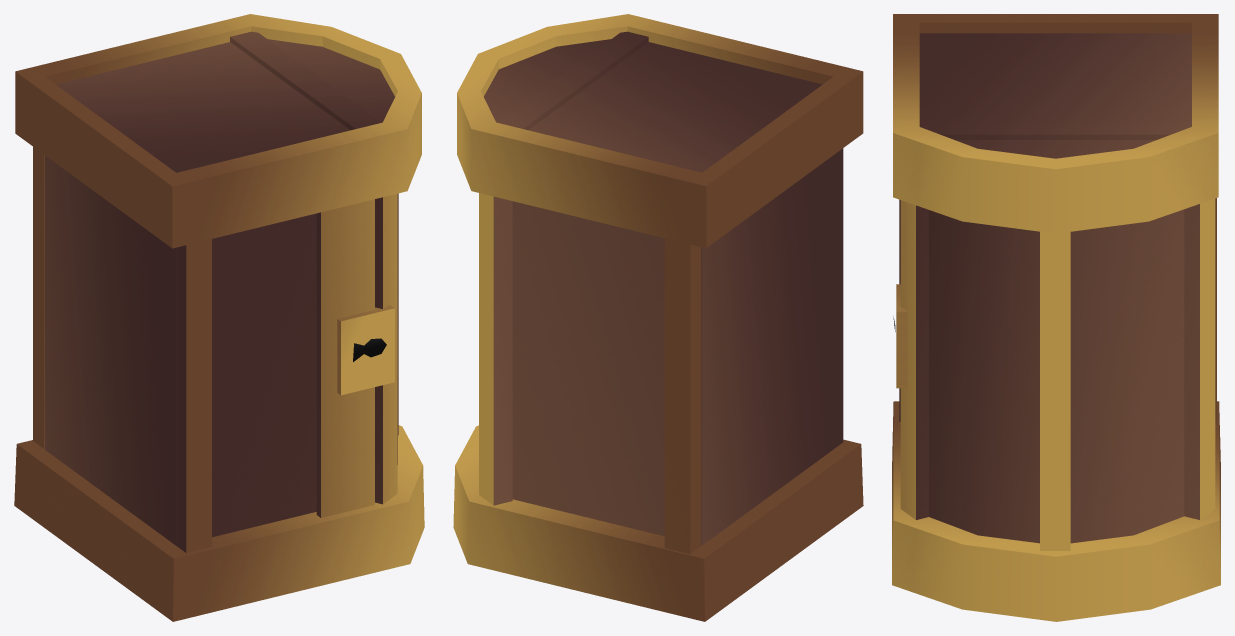
The model's file is coffre.glb.
3 renders of one model, left to right at view 1: azimuth 30°, elevation 25°; view 2: azimuth 150°, elevation 25°; view 3: azimuth 270°, elevation 25°, orthographic. The views are drawn at different scales.
Visible parts, largest first — view 1: Line042_Material #117_0; view 2: Line042_Material #117_0; view 3: Line042_Material #117_0.
Part boxes in pixels (box(x1,y1,x2,y2)): Line042_Material #117_0: box(14, 14, 424, 621); Line042_Material #117_0: box(453, 14, 863, 621); Line042_Material #117_0: box(892, 14, 1220, 621).
Size of the model in its own units: 24.24 by 32.5 by 21.47.
Materials: 1 (1 with a texture image).
